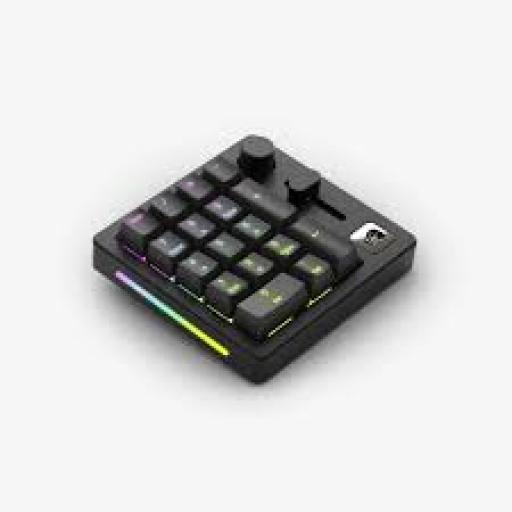keyboard: (93, 137, 414, 380)
